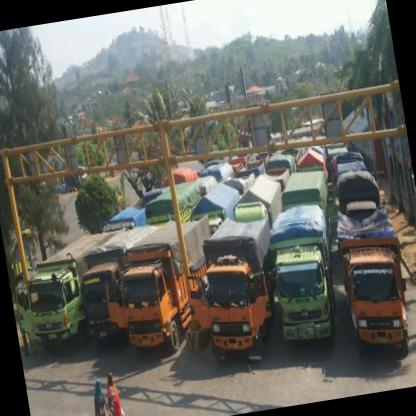truck: (341, 245, 414, 363), (199, 256, 269, 368), (270, 244, 339, 357), (117, 257, 183, 367), (23, 267, 86, 360)
